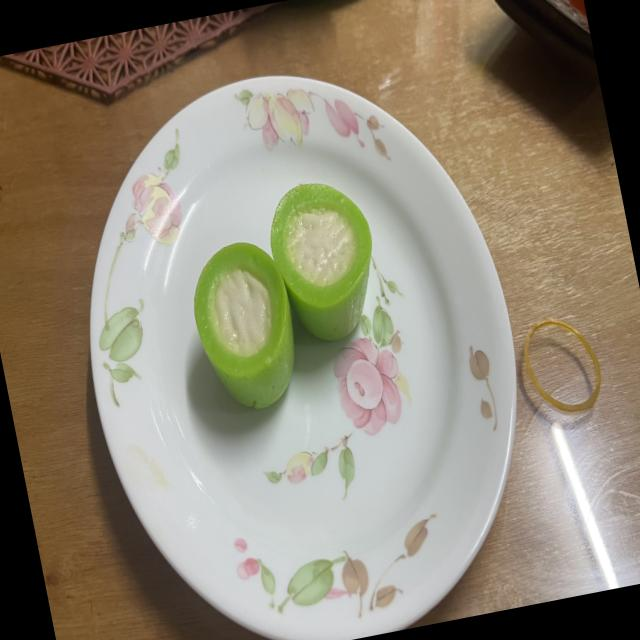nona-manis: (194, 242, 295, 409), (271, 183, 372, 341)
